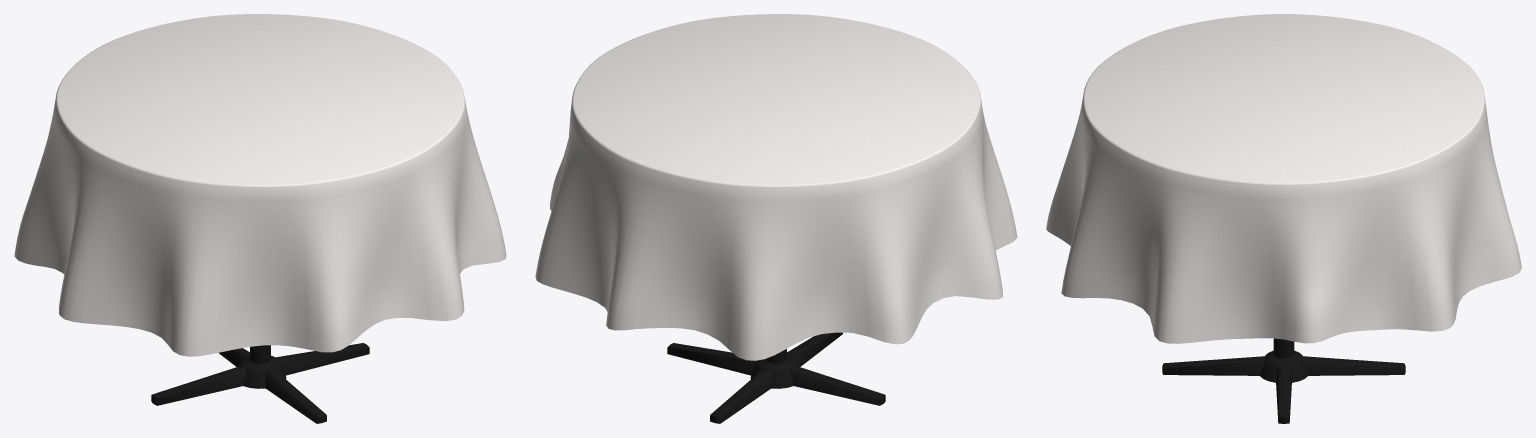
File: Table06.FBX
3 renders of one model, left to right at view 1: azimuth 30°, elevation 25°; view 2: azimuth 150°, elevation 25°; view 3: azimuth 270°, elevation 25°, orthographic.
Visible parts, largest first — view 1: Table06; view 2: Table06; view 3: Table06.
Part boxes in pixels (x1,y1,x2,y2): Table06: [14, 14, 506, 423]; Table06: [535, 14, 1017, 423]; Table06: [1046, 14, 1521, 423].
Size of the model in its own units: 1194 by 750 by 1179.
